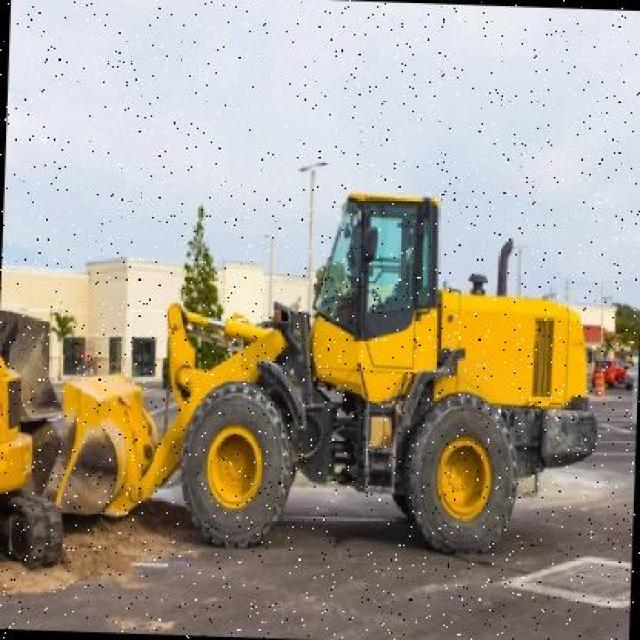buldozerpayloadergrader: (57, 182, 609, 562)
